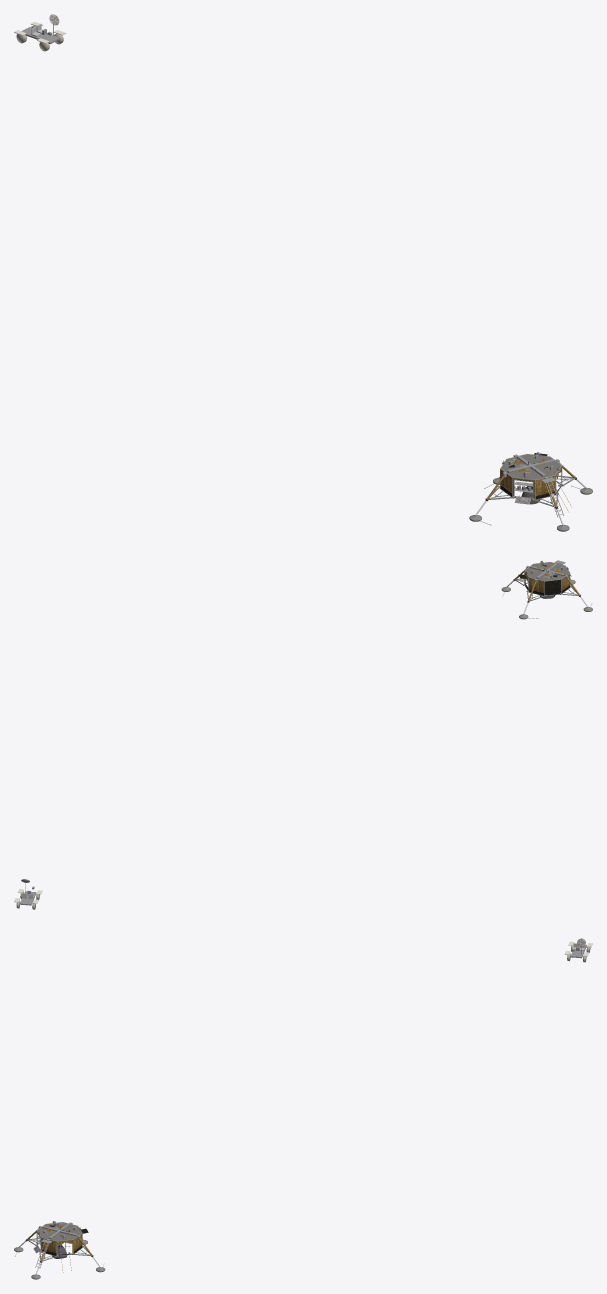
The model's file is apollo_lm_descent.glb.
3 renders of one model, top to bottom at view 1: azimuth 30°, elevation 25°; view 2: azimuth 150°, elevation 25°; view 3: azimuth 330°, elevation 25°, orthographic. The views are drawn at different scales.
Visible parts, largest first — view 1: LM_Descent, Experiments; view 2: LM_Descent; view 3: LM_Descent.
Boxes of the visible parts, x1,y1,x2,y2 form: LM_Descent: (469, 452, 592, 531); Experiments: (14, 14, 66, 51); LM_Descent: (501, 560, 592, 619); LM_Descent: (14, 1221, 105, 1279).
Bounding box in the file's own units: 15.82 × 3.62 × 95.02.
Materials: 14 (5 with a texture image).
